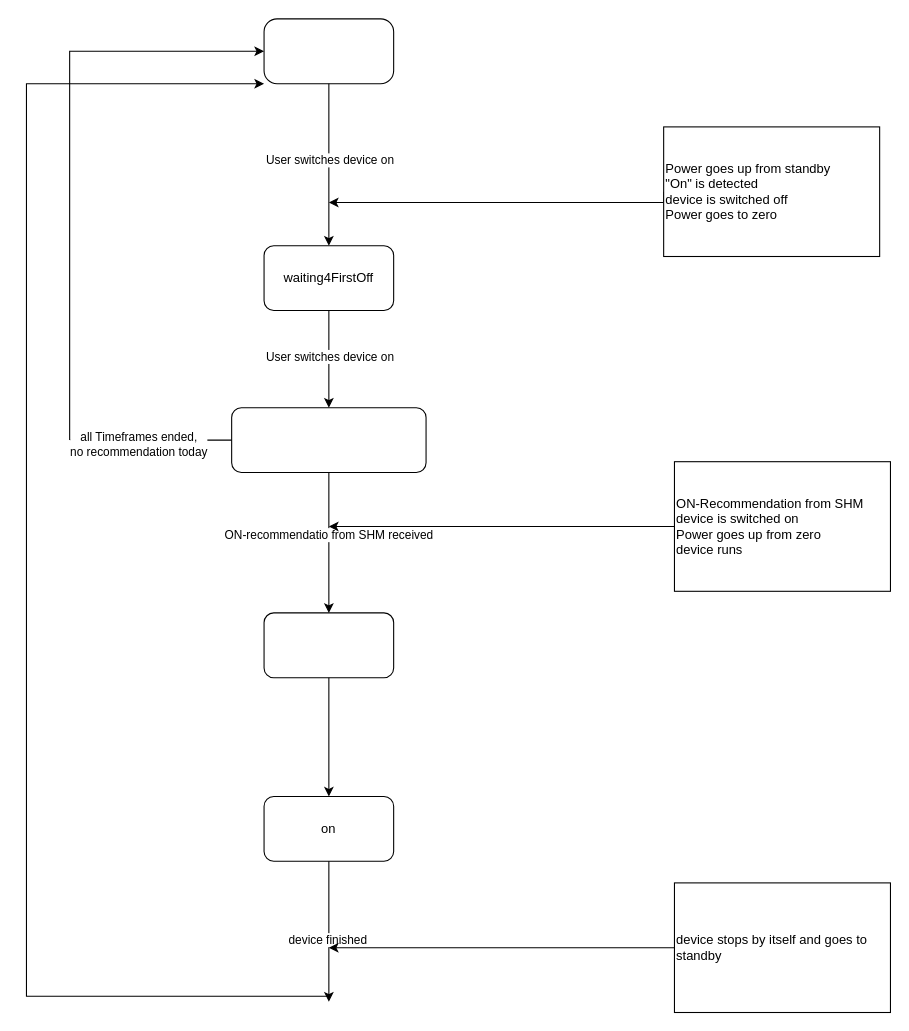
The diagram is 909 pixels wide and 1031 high, and some of its shapes have lost their labels. Here are the shapes that lost their labels. From the top down, the box of each, then its label:
(263, 18, 394, 84): off
(231, 407, 426, 473): waiting4OnRecommendation
(263, 612, 394, 678): waiting4On
